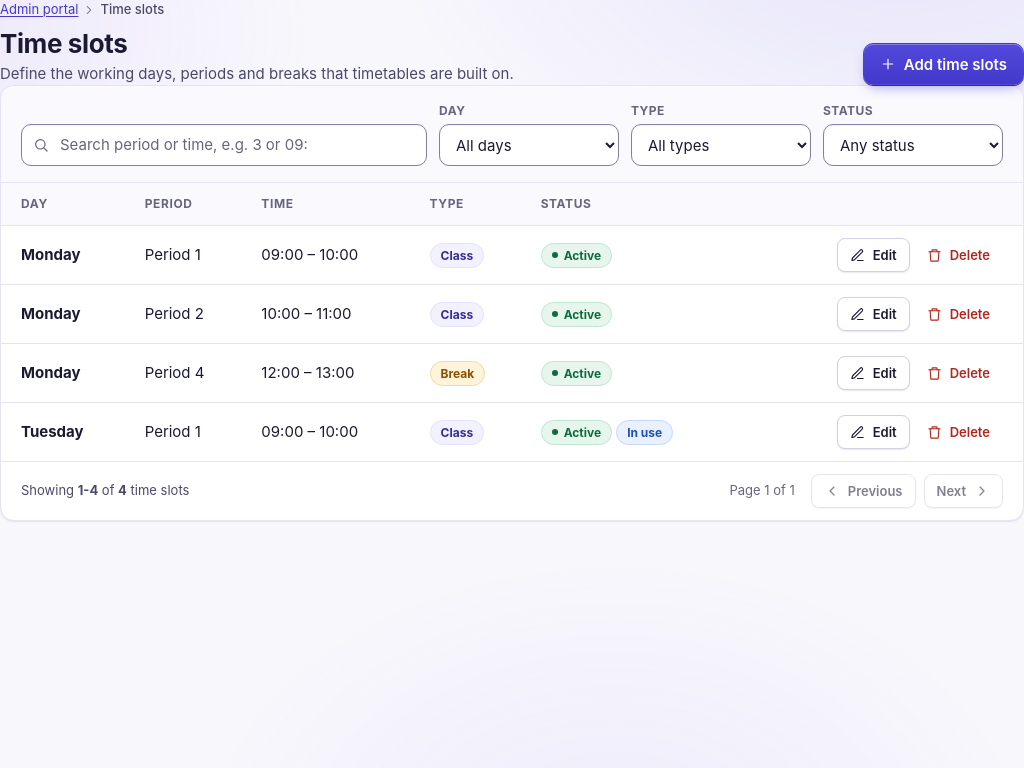
Test: Time slots screen - create (DIY-TC09, TC10, TC12) › opens with focus on the first field and Mon-Fri preselected
Click the button "Add time slots" at x=943, y=64, box left=863, top=43, right=1023, bottom=85
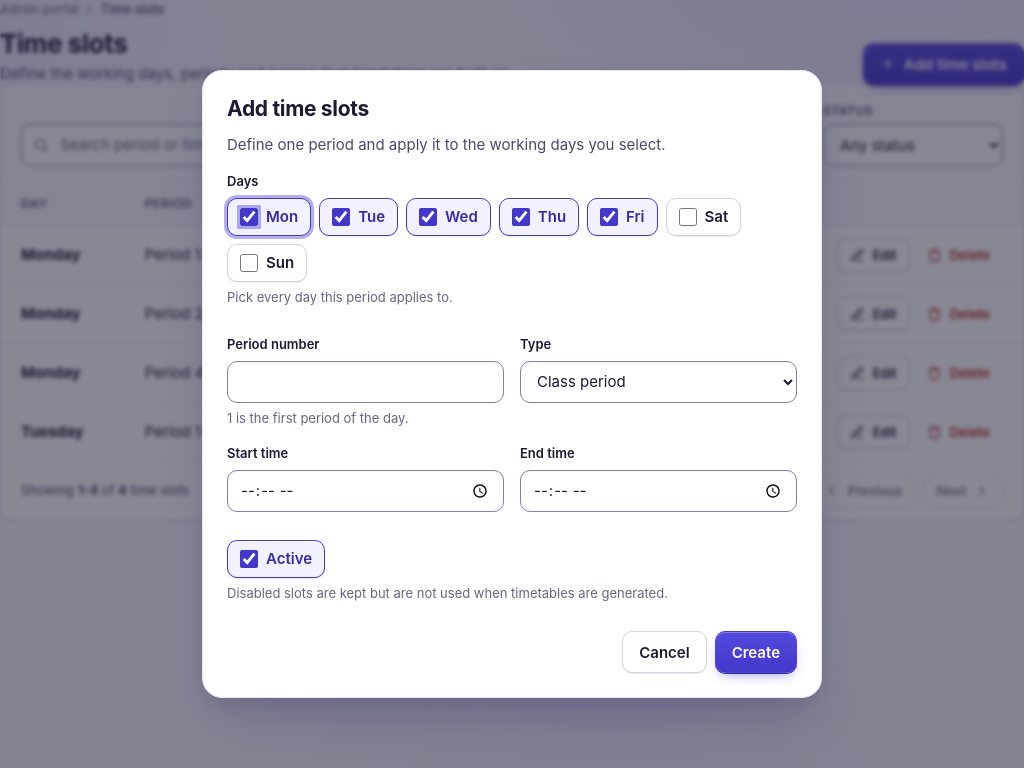
Check: the checkbox labelled "Fri" is checked, box left=600, top=208, right=618, bottom=226
Check: the checkbox labelled "Sat" is not checked, box left=678, top=208, right=696, bottom=226
